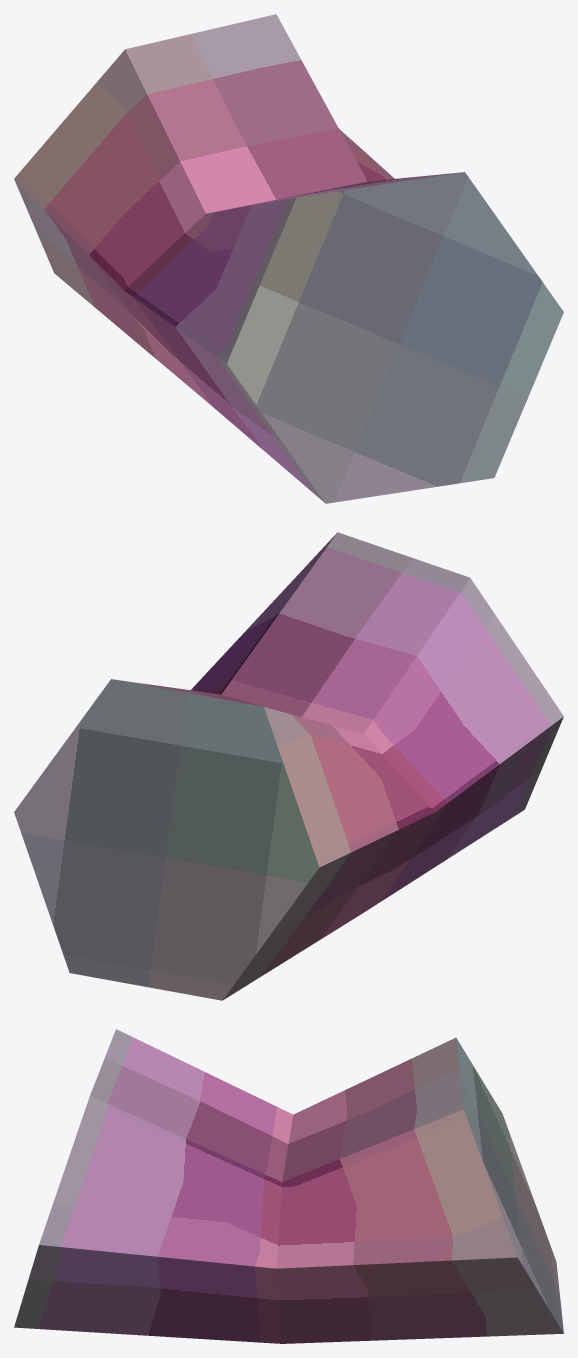
File: entity108866.glb
The picture shows the model from 3 angles, top to bottom: view 1: azimuth 30°, elevation 25°; view 2: azimuth 150°, elevation 25°; view 3: azimuth 270°, elevation 25°; orthographic projection. The views are drawn at different scales.
Parts seen in each view (by area): view 1: node_SM_Prop_Syncola_Can_02 (3); view 2: node_SM_Prop_Syncola_Can_02 (3); view 3: node_SM_Prop_Syncola_Can_02 (3).
Part boxes in pixels (left/top/right/bottom): node_SM_Prop_Syncola_Can_02 (3): left=14, top=14, right=563, bottom=503; node_SM_Prop_Syncola_Can_02 (3): left=14, top=532, right=563, bottom=1000; node_SM_Prop_Syncola_Can_02 (3): left=14, top=1029, right=563, bottom=1343.
Size of the model in its own units: 0.132 by 0.1062 by 0.2153.
Materials: 1 (1 with a texture image).
